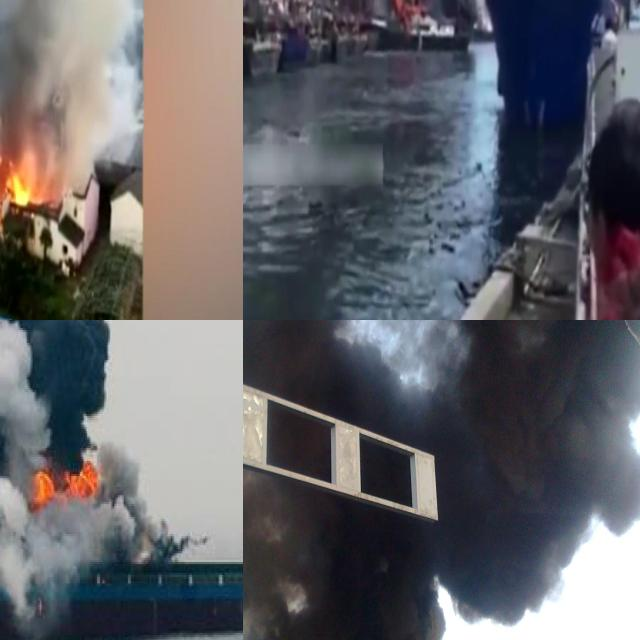fire: (30, 452, 100, 502), (0, 153, 36, 224)
smoke: (0, 320, 168, 622), (243, 484, 441, 640), (0, 0, 136, 203)
